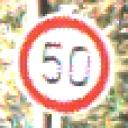speed_limit_50: (17, 14, 113, 113)
